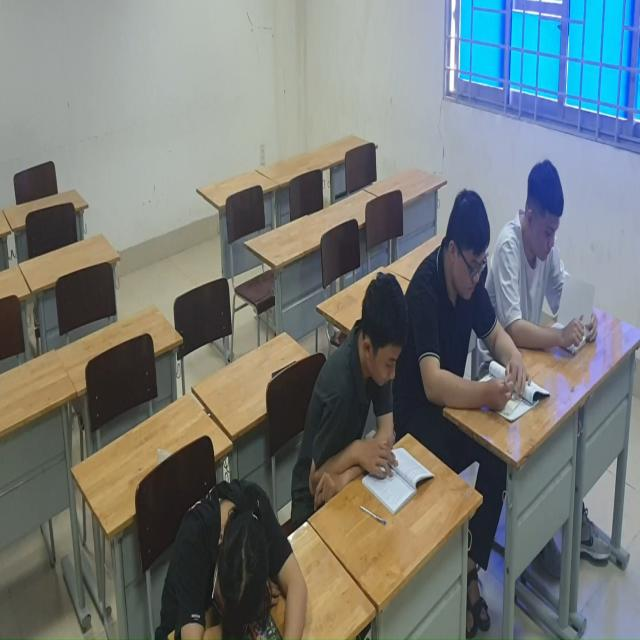read: (415, 187, 529, 425), (306, 277, 408, 514), (500, 164, 603, 364)
sleep: (148, 493, 333, 640)
